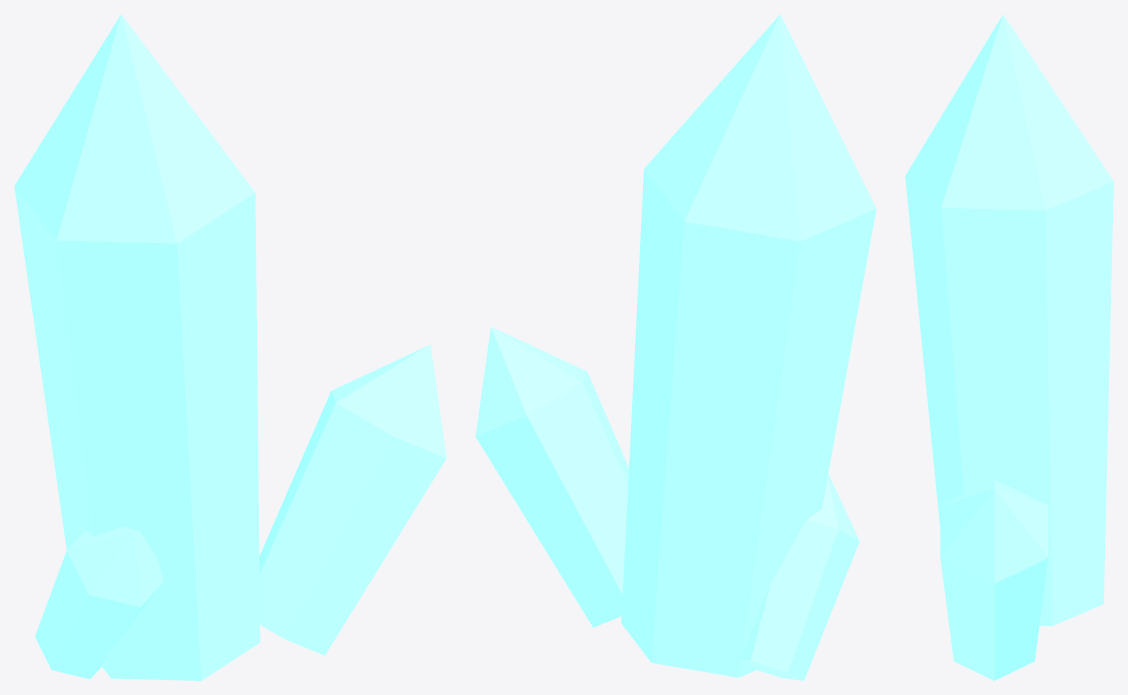
Rendered from Rock_Crystal_Shard_C.fbx.
The picture shows the model from 3 angles, left to right: view 1: azimuth 30°, elevation 25°; view 2: azimuth 150°, elevation 25°; view 3: azimuth 270°, elevation 25°; orthographic projection. The views are drawn at different scales.
Visible parts, largest first — view 1: Rock_Crystal_Shard_C; view 2: Rock_Crystal_Shard_C; view 3: Rock_Crystal_Shard_C.
Part boxes in pixels (bbox=[...]): Rock_Crystal_Shard_C: bbox=[14, 14, 446, 680]; Rock_Crystal_Shard_C: bbox=[475, 14, 876, 680]; Rock_Crystal_Shard_C: bbox=[905, 14, 1113, 680].
Size of the model in its own units: 1.27 by 2.07 by 0.669.
